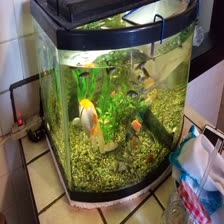Cuezo: (70, 97, 108, 151)
